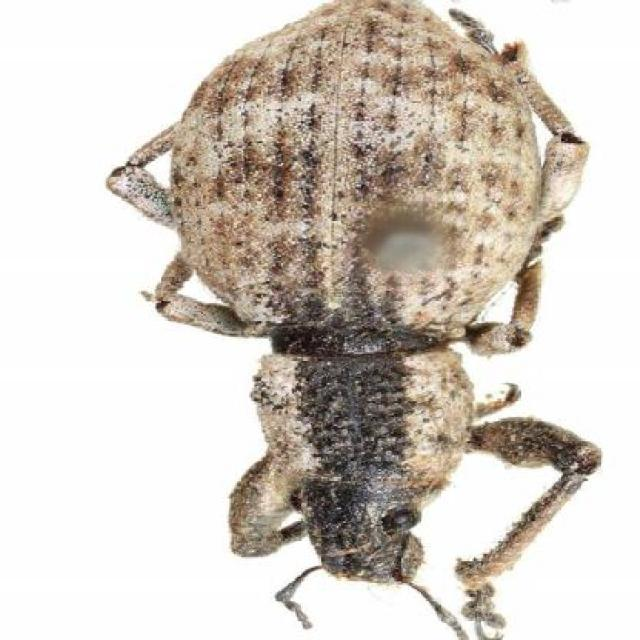rice-bug: (110, 0, 604, 602)
